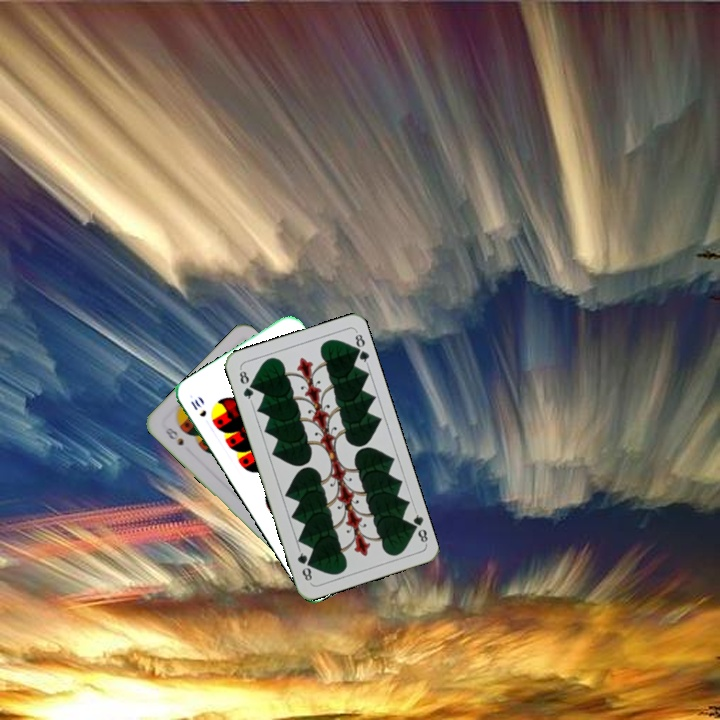G8: (405, 507, 431, 546), (235, 365, 256, 404)
S10: (187, 395, 209, 419)
S8: (161, 423, 186, 448)
